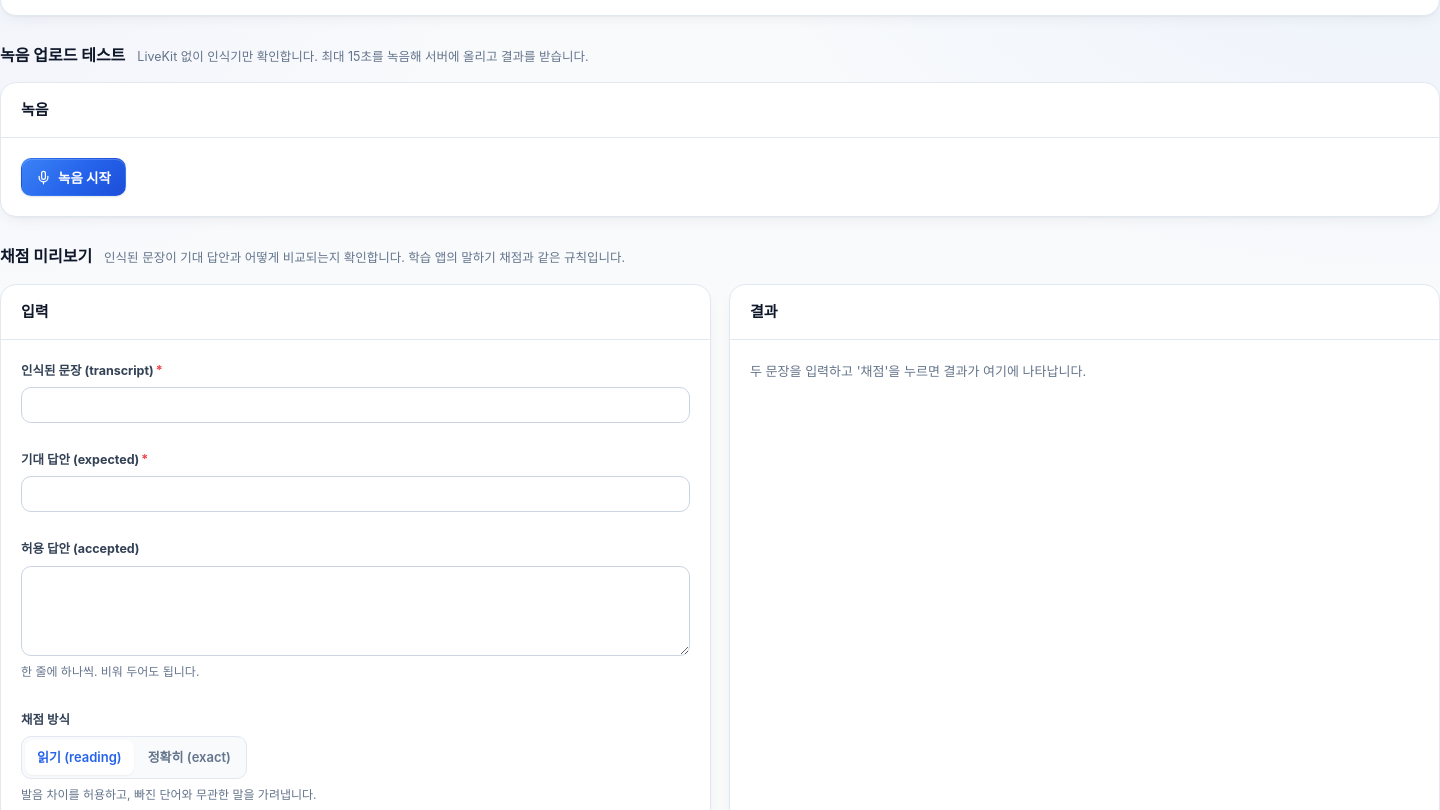
Test: 채점 미리보기 › renders the verdict, similarity and normalized forms
The image size is (1440, 810).
(page scrolled)
Type "안녕하세요" into the field labelled "인식된 문장" at (356, 405), box [21,387,690,423]
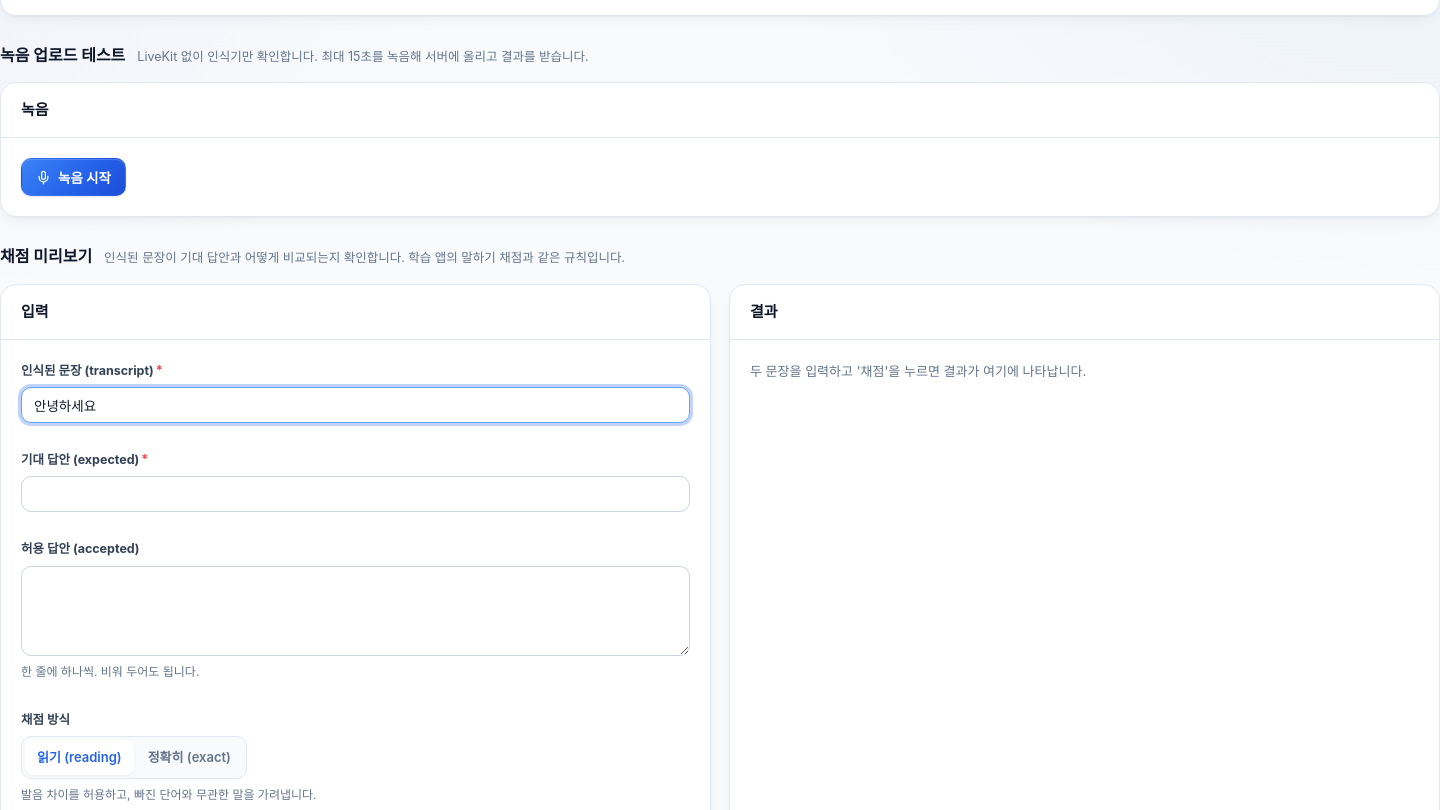
Type "안녕하세요 반갑습니다" into the field named "기대 답안 문장" at (356, 494), box [21,476,690,512]
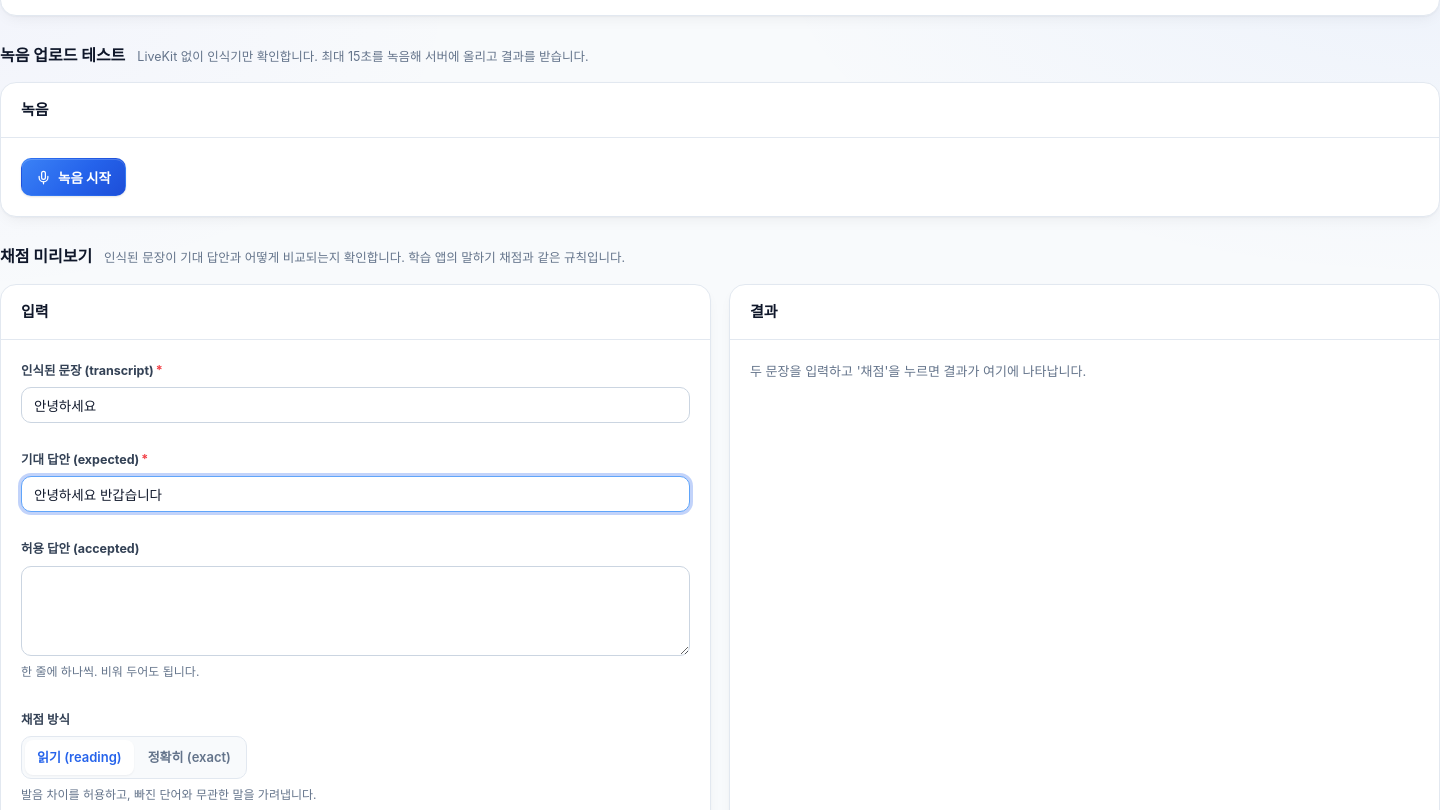
Click the radio button labelled "정확히 (exact)" at (189, 757), box [136,740,243,775]
(page scrolled)
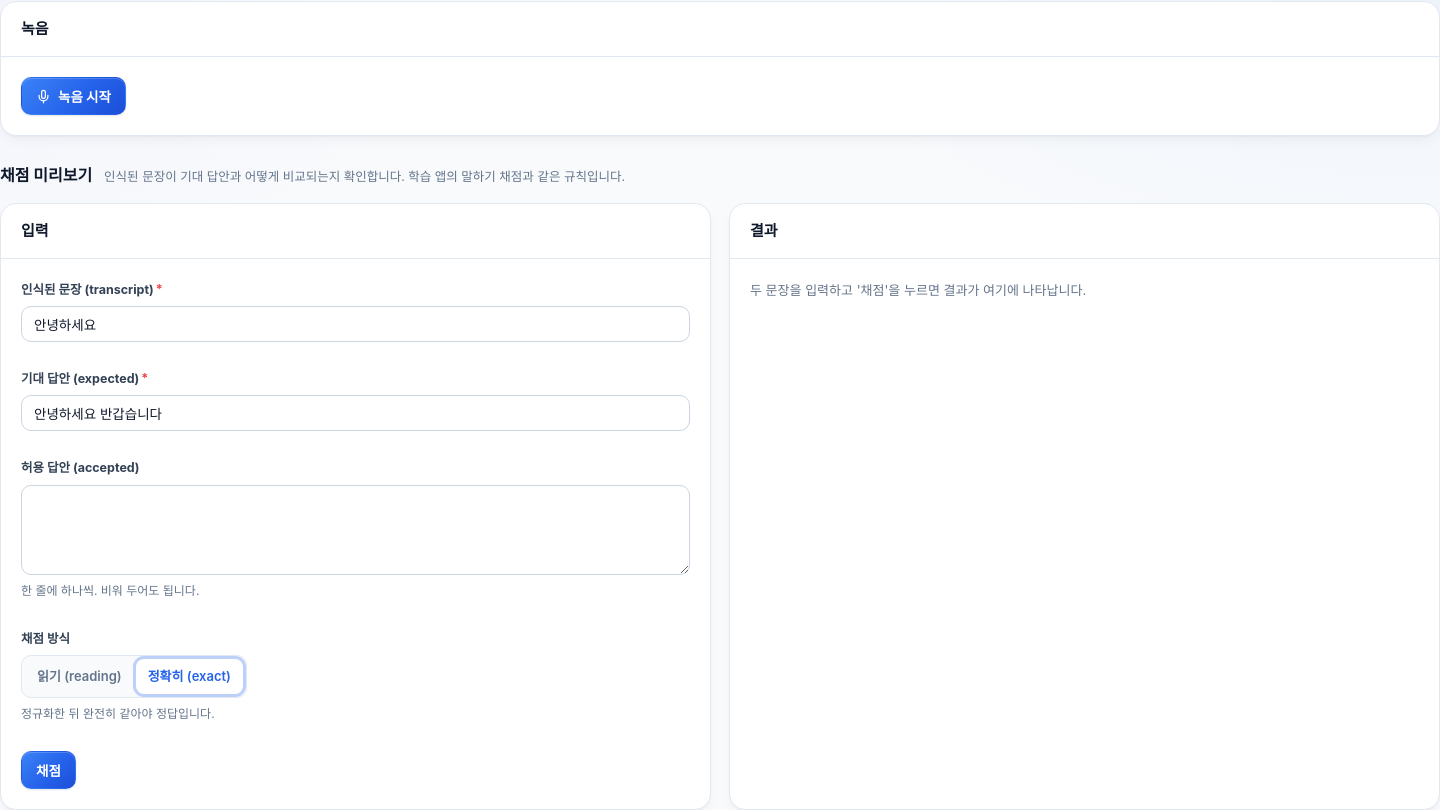
Click the button "채점" at (48, 770), box [21,751,76,789]
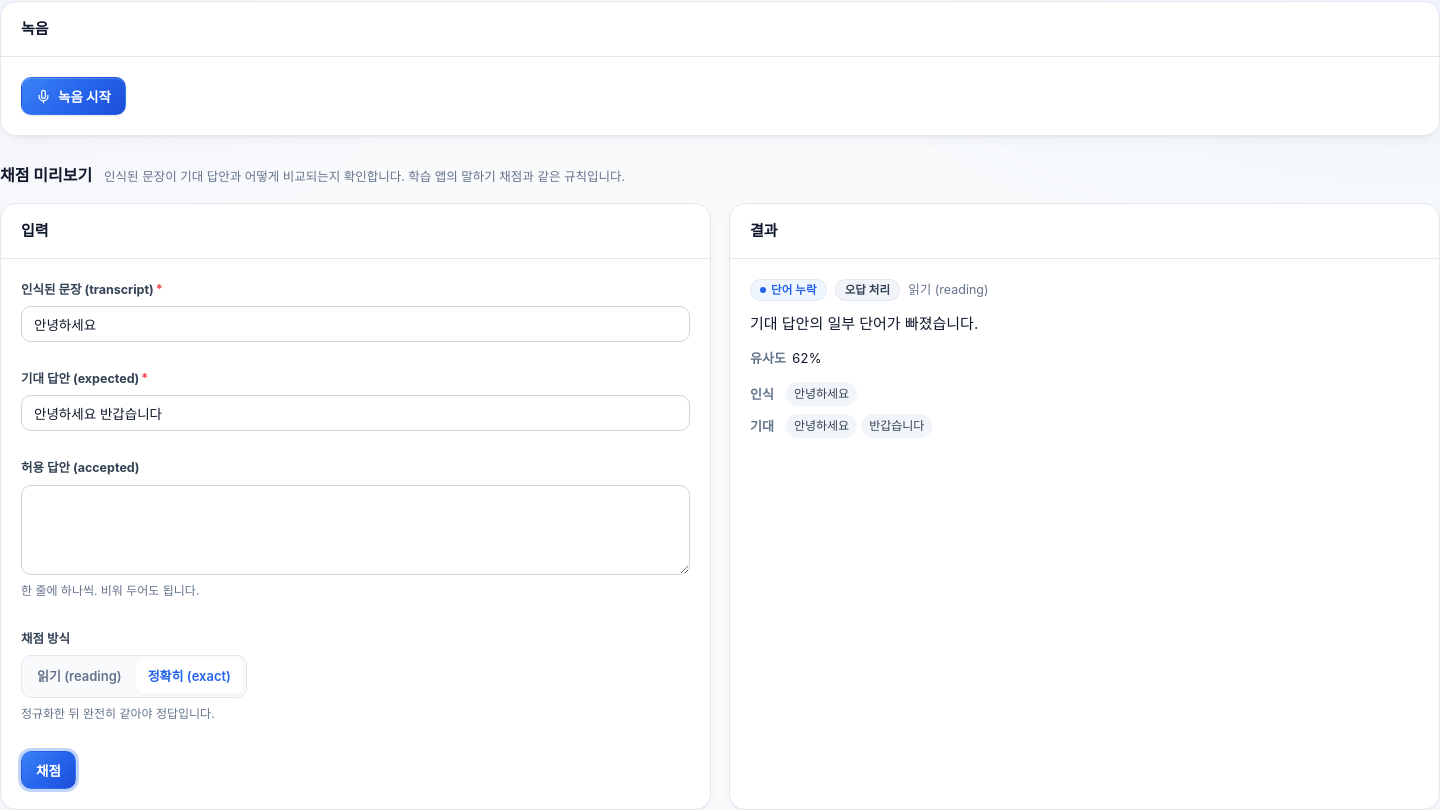
Expected: the text "단어 누락" is shown, [750,279,827,301]
Expected: the text "기대 답안의 일부 단어가 빠졌습니다." is shown, [750,314,978,333]
Expected: the text "62%" is shown, [792,348,822,370]
